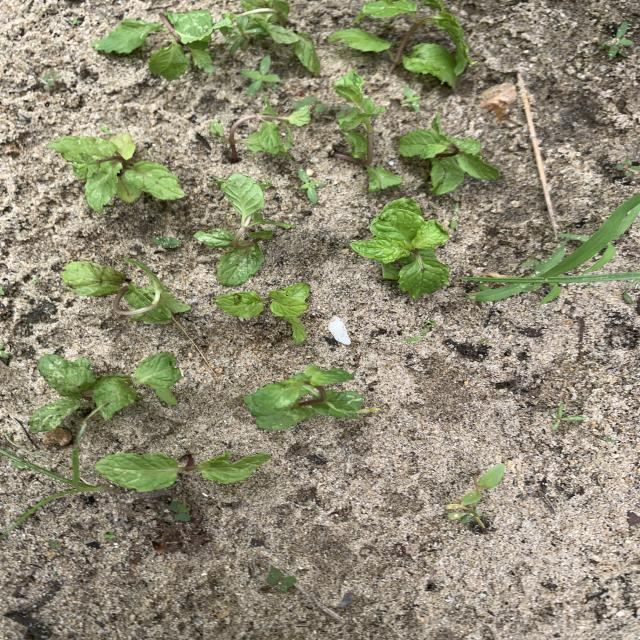crop: (329, 0, 474, 86), (30, 353, 179, 431), (195, 175, 294, 285), (47, 132, 183, 211), (351, 199, 449, 298), (92, 11, 214, 79), (62, 259, 190, 323), (399, 114, 499, 194), (245, 366, 367, 429), (96, 452, 270, 490), (209, 98, 315, 158), (240, 1, 316, 74), (216, 283, 308, 343), (333, 69, 384, 133)
weed: (465, 194, 639, 302), (1, 448, 104, 535), (446, 464, 504, 527), (215, 14, 264, 54), (242, 56, 279, 95), (600, 22, 633, 58), (298, 169, 323, 202), (551, 405, 583, 430), (266, 568, 295, 591), (405, 321, 435, 342), (614, 159, 639, 177), (402, 86, 419, 111), (169, 502, 190, 521), (41, 71, 61, 88), (153, 237, 179, 247), (0, 345, 7, 359), (104, 533, 115, 540)
